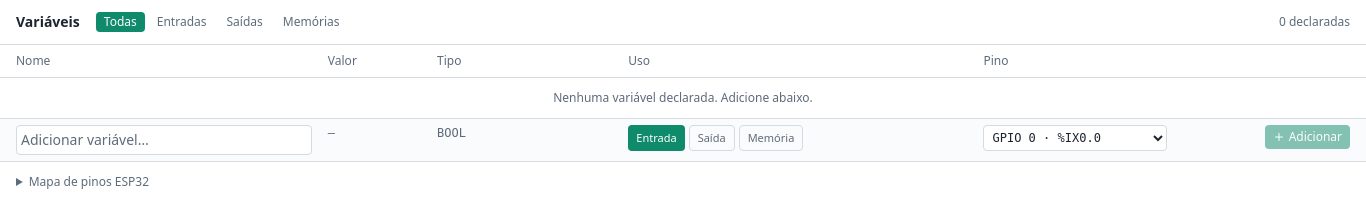
Scenario: PainelVariaveis — declarar via núcleo › classe Entrada (padrão): adiciona com um pino já pré-selecionado e o diagrama sobe por aoMudar
The width and height of the screenshot is (1366, 208).
Type "contador" into the field named "Nome da nova variável" at (164,140), box x1=16 y1=125 x2=312 y2=155
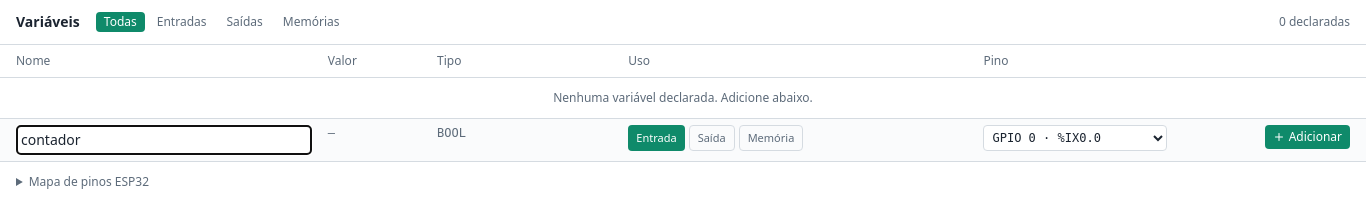
Click the button "Adicionar" at (1307,137), box x1=1265 y1=125 x2=1350 y2=149
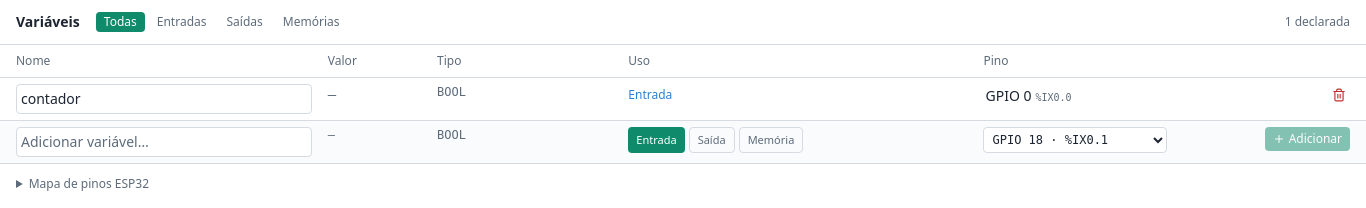
Expected: the field named "Nome da variável contador" is shown, x1=16 y1=84 x2=312 y2=114
Click the button with aria-label "Alterar pino de contador" at (1075,96), box x1=984 y1=84 x2=1167 y2=108
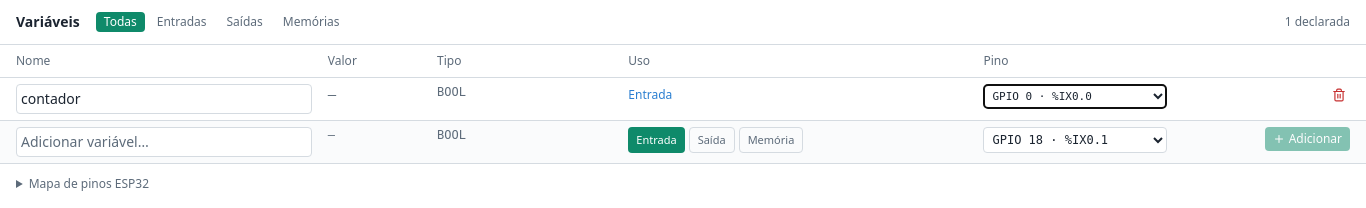
Expected: the text "1 declarada" is shown, x1=1285 y1=14 x2=1350 y2=30
Expected: the dropdown named "Pino da variável contador" shows "GPIO 0 · %IX0.0", x1=984 y1=84 x2=1167 y2=109
